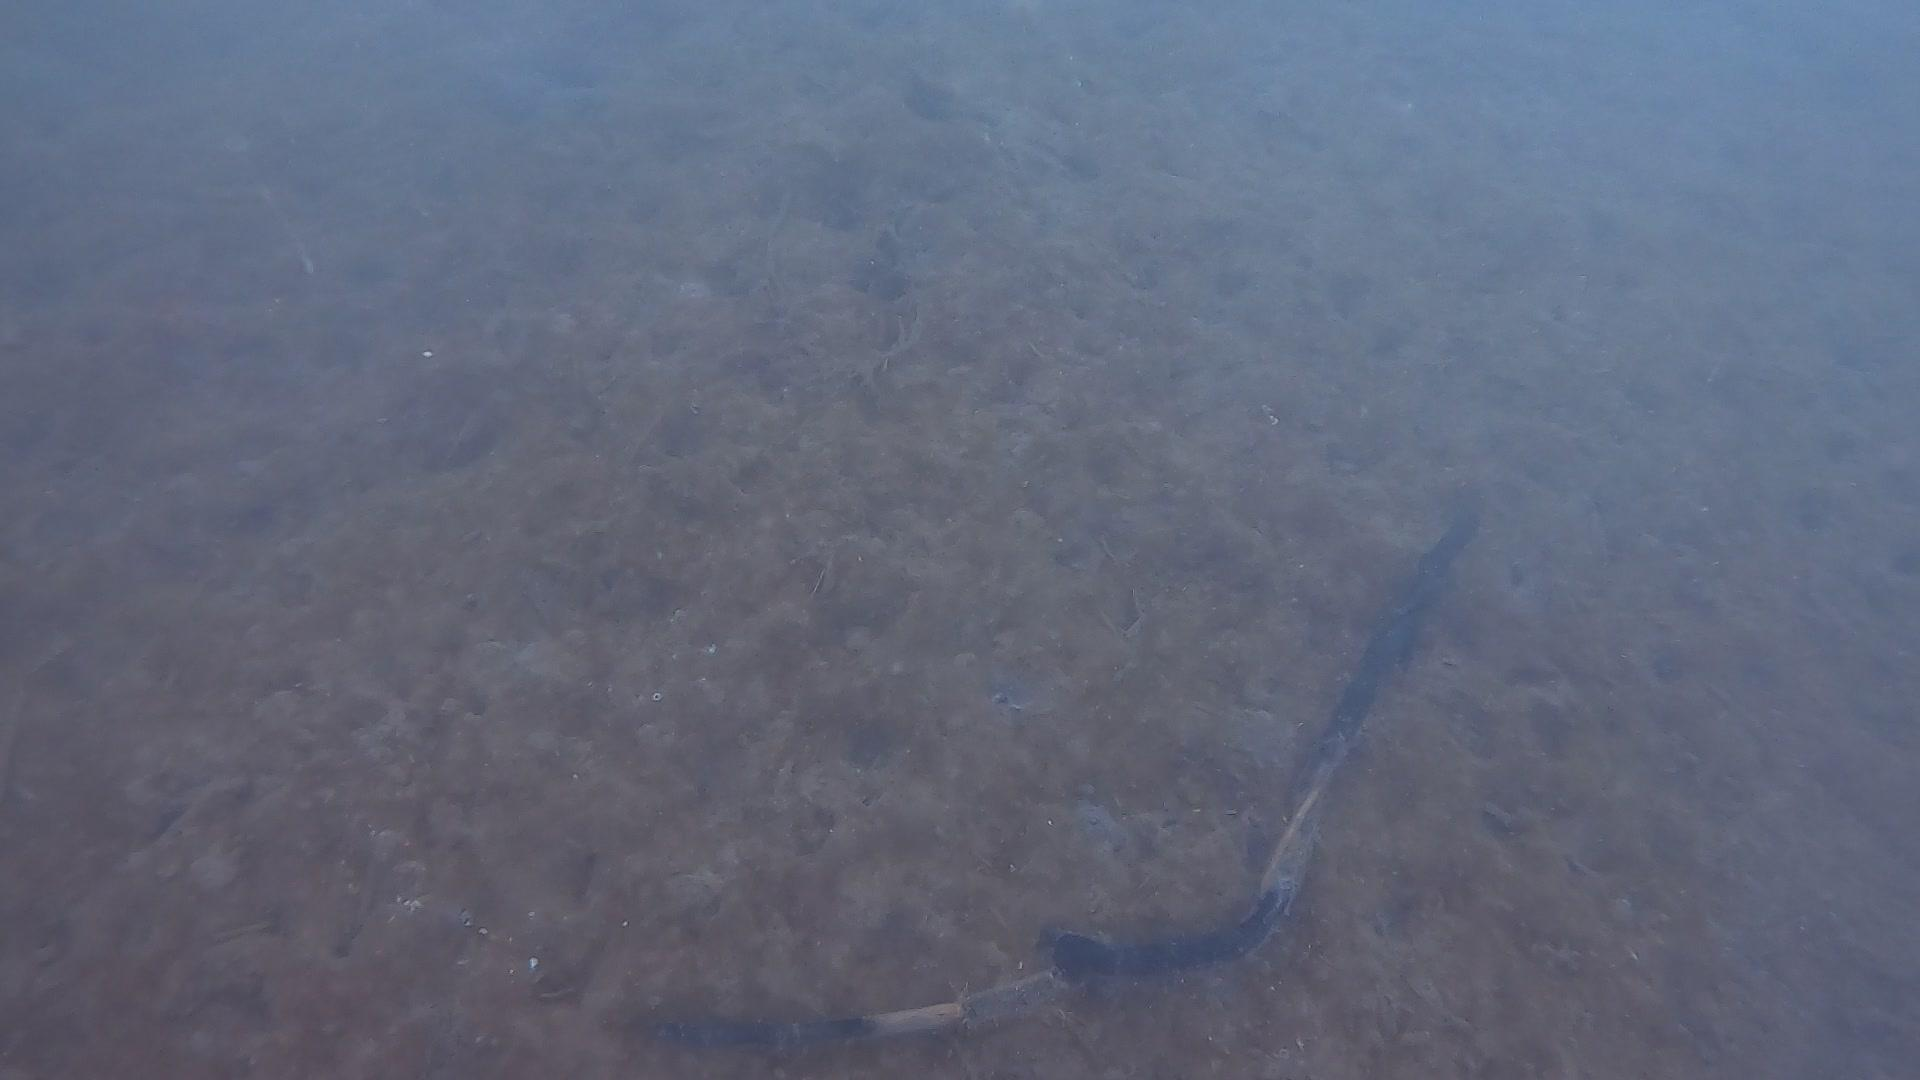wood: (622, 510, 1478, 1062)
